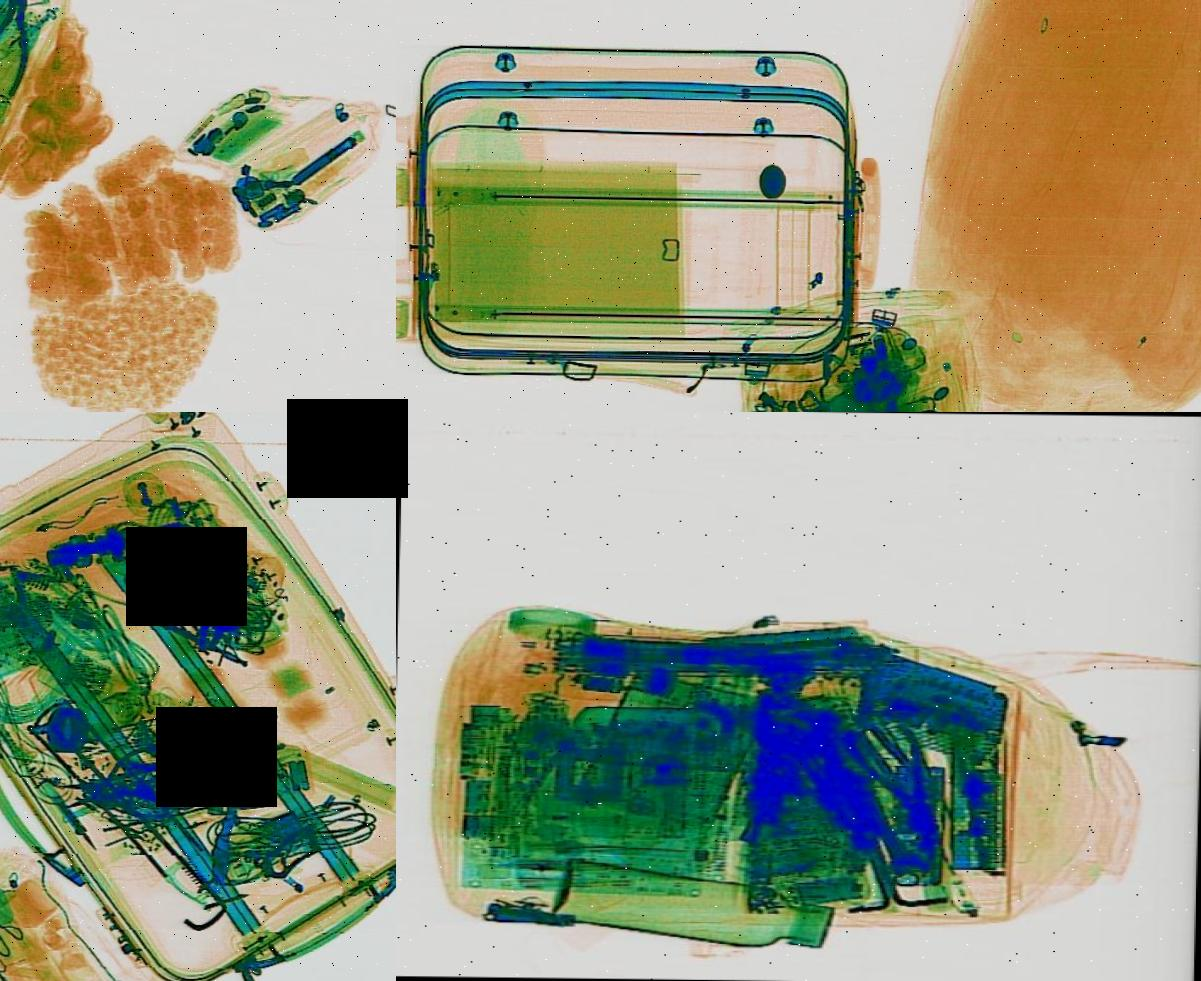Pliers: (844, 720, 969, 858), (41, 740, 209, 836), (118, 752, 282, 824), (142, 708, 293, 772), (0, 0, 50, 96)
